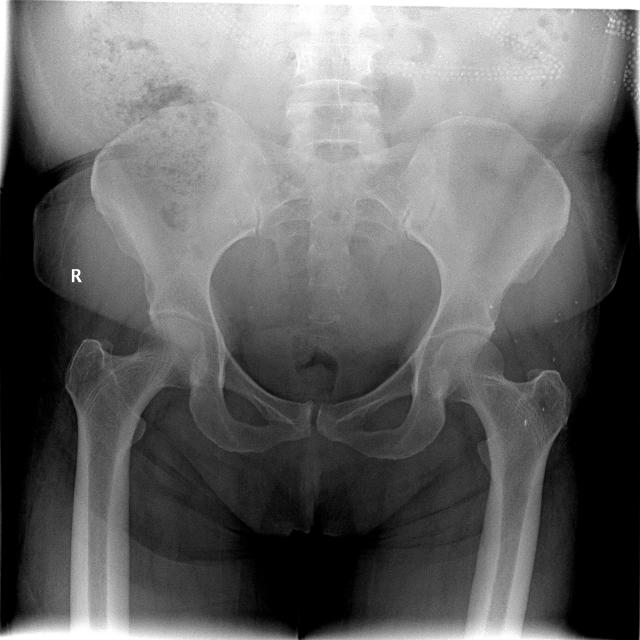normal-left: (430, 333, 573, 563)
normal-right: (64, 318, 210, 539)
